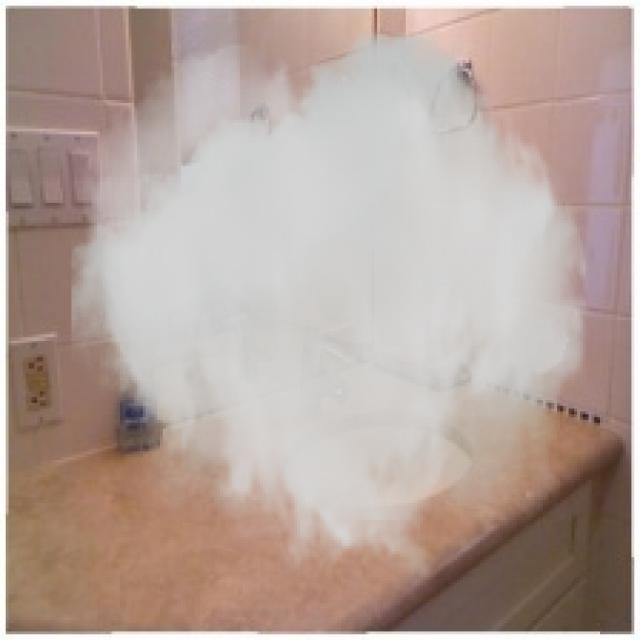smoke: (71, 31, 594, 588)
